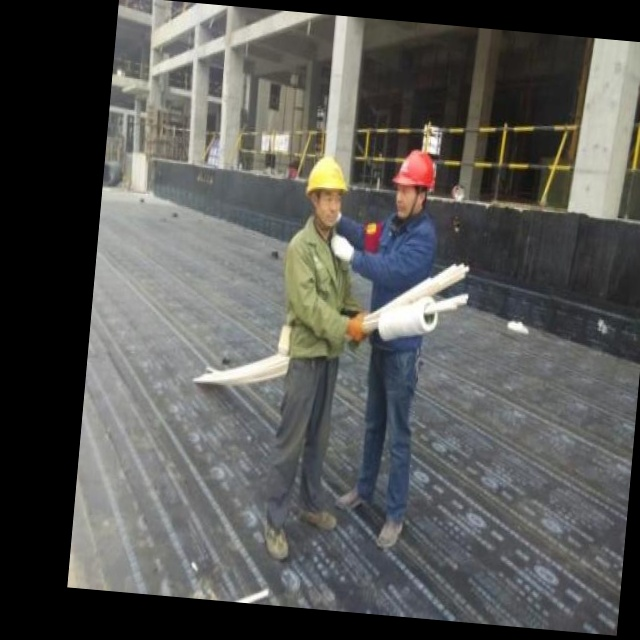Con_Casco: (304, 156, 348, 228), (392, 149, 436, 220)
